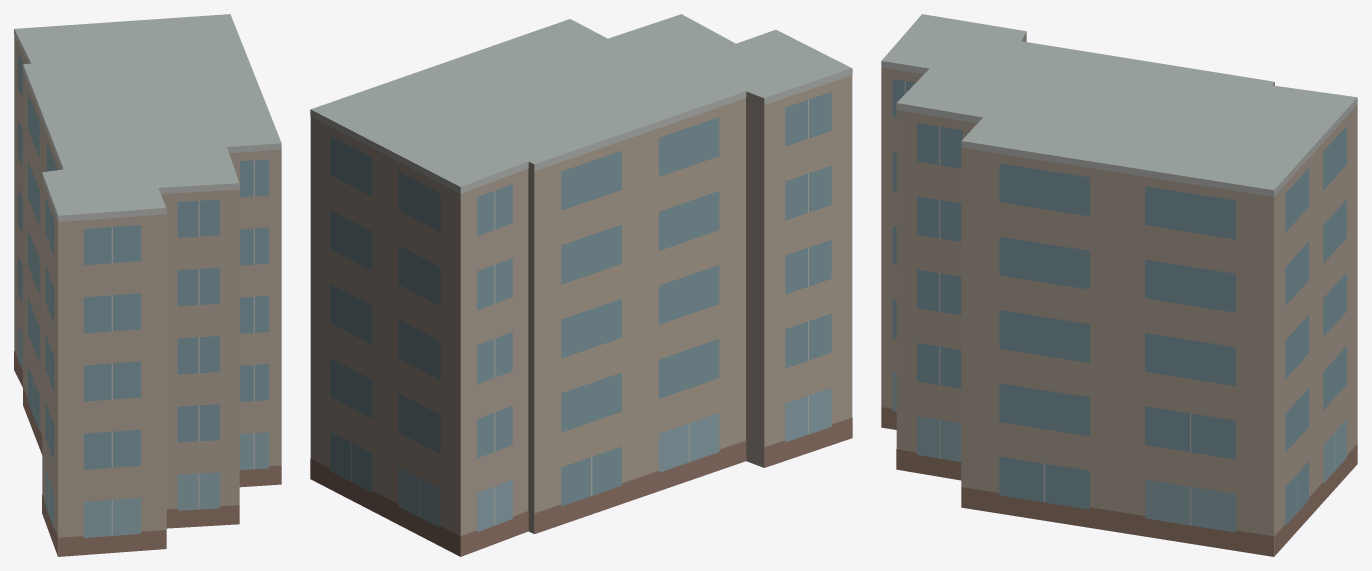
File: survey-upis-32881717.glb
3 views of the same model, side by side, from view 1: azimuth 30°, elevation 25°; view 2: azimuth 150°, elevation 25°; view 3: azimuth 270°, elevation 25° (orthographic). The views are drawn at different scales.
Parts seen in each view (by area): view 1: survey-upis-32881717.tmp; view 2: survey-upis-32881717.tmp; view 3: survey-upis-32881717.tmp.
Boxes of the visible parts, x1,y1,x2,y2 form: survey-upis-32881717.tmp: (14,14,281,556); survey-upis-32881717.tmp: (310,14,852,556); survey-upis-32881717.tmp: (881,14,1357,556).
Bounding box in the file's own units: 13.62 × 13.2 × 15.55.
